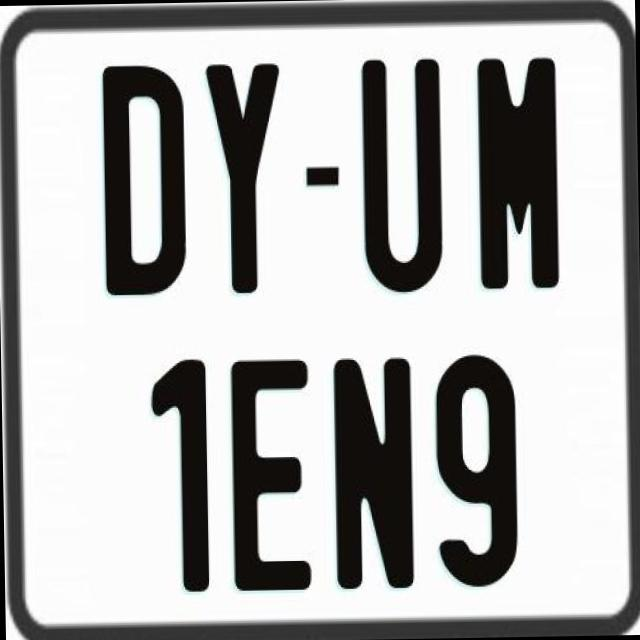1: (148, 356, 214, 592)
9: (432, 350, 518, 590)
D: (98, 60, 182, 290)
E: (227, 359, 313, 597)
M: (476, 56, 560, 292)
N: (333, 356, 415, 596)
U: (356, 57, 438, 298)
Y: (205, 59, 288, 298)
